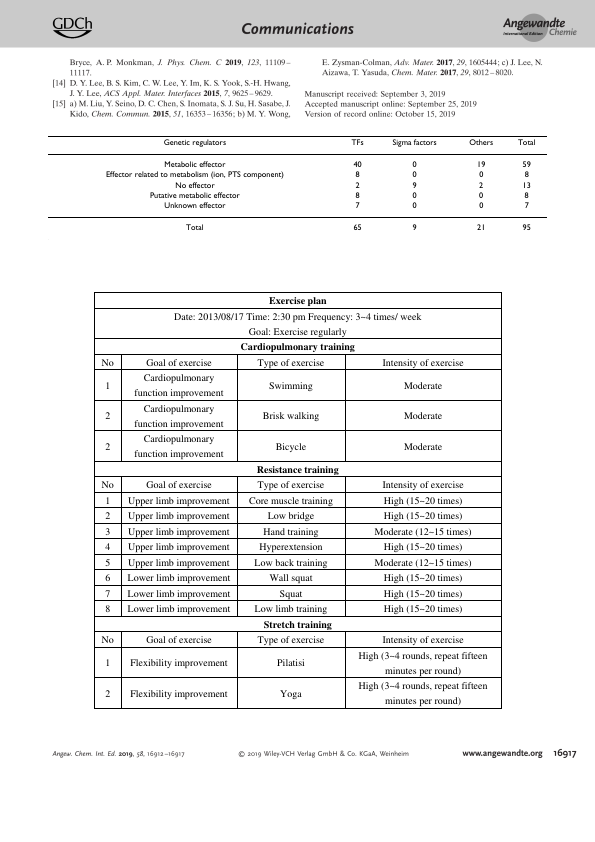bordered: (93, 290, 501, 708)
borderless: (46, 134, 548, 241)
cell: (172, 310, 422, 338), (357, 679, 488, 708), (357, 649, 488, 677), (133, 371, 224, 400), (133, 402, 224, 430), (133, 433, 224, 461), (104, 171, 284, 181), (239, 340, 355, 354), (126, 571, 231, 585), (126, 509, 230, 523), (126, 587, 231, 600), (126, 603, 231, 616), (126, 494, 230, 507), (126, 525, 230, 538), (126, 541, 230, 554), (126, 556, 230, 569), (373, 525, 472, 538), (373, 556, 472, 569), (129, 657, 228, 670), (129, 687, 228, 700), (381, 478, 464, 492), (382, 509, 463, 523), (382, 571, 463, 585), (247, 494, 333, 507), (255, 463, 339, 476), (381, 356, 464, 369), (381, 634, 464, 647), (382, 494, 463, 507), (382, 541, 463, 554), (382, 587, 463, 600), (382, 603, 463, 616), (253, 556, 328, 569), (253, 603, 328, 616), (256, 478, 325, 492), (145, 478, 212, 492), (148, 191, 240, 201), (262, 618, 332, 631), (256, 356, 325, 369), (256, 634, 325, 647), (145, 356, 212, 369), (145, 634, 212, 647), (258, 541, 323, 554), (267, 294, 327, 308), (261, 409, 320, 423), (262, 525, 319, 538), (266, 509, 315, 523), (162, 138, 227, 148), (268, 571, 313, 585), (267, 379, 313, 392), (402, 409, 443, 423), (163, 161, 226, 170), (163, 202, 226, 211), (402, 379, 443, 392), (402, 440, 443, 453), (391, 138, 437, 148), (274, 440, 307, 453), (174, 181, 215, 191), (275, 657, 305, 670), (278, 587, 303, 600), (278, 687, 302, 700), (468, 138, 494, 148), (516, 138, 536, 148), (100, 478, 114, 492), (185, 224, 204, 234), (100, 356, 114, 369), (100, 634, 114, 647), (350, 138, 364, 148), (521, 181, 531, 191), (352, 224, 362, 234), (476, 224, 486, 234), (521, 224, 531, 234), (104, 409, 111, 423), (104, 509, 111, 523), (104, 571, 111, 585), (104, 379, 111, 392), (104, 440, 111, 453), (104, 494, 111, 507), (104, 525, 111, 538), (104, 541, 111, 554), (104, 556, 111, 569), (104, 587, 111, 600), (104, 603, 111, 616), (104, 657, 111, 670), (104, 687, 111, 700), (352, 161, 362, 170), (476, 161, 486, 170), (521, 161, 531, 170), (354, 171, 360, 181), (411, 171, 417, 181), (478, 171, 484, 181), (523, 171, 529, 181), (354, 181, 360, 191), (411, 181, 417, 191), (478, 181, 484, 191), (354, 191, 360, 201), (411, 191, 417, 201), (478, 191, 484, 201), (523, 191, 529, 201), (411, 224, 417, 234), (411, 161, 417, 170), (354, 202, 360, 211), (411, 202, 417, 211), (478, 202, 484, 211), (523, 202, 529, 211)
